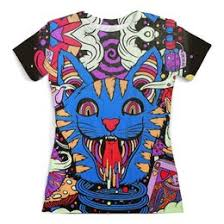cat: (54, 48, 166, 188)
